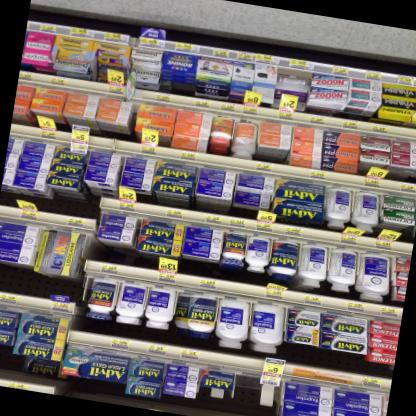empty_space: (226, 372, 284, 416)
